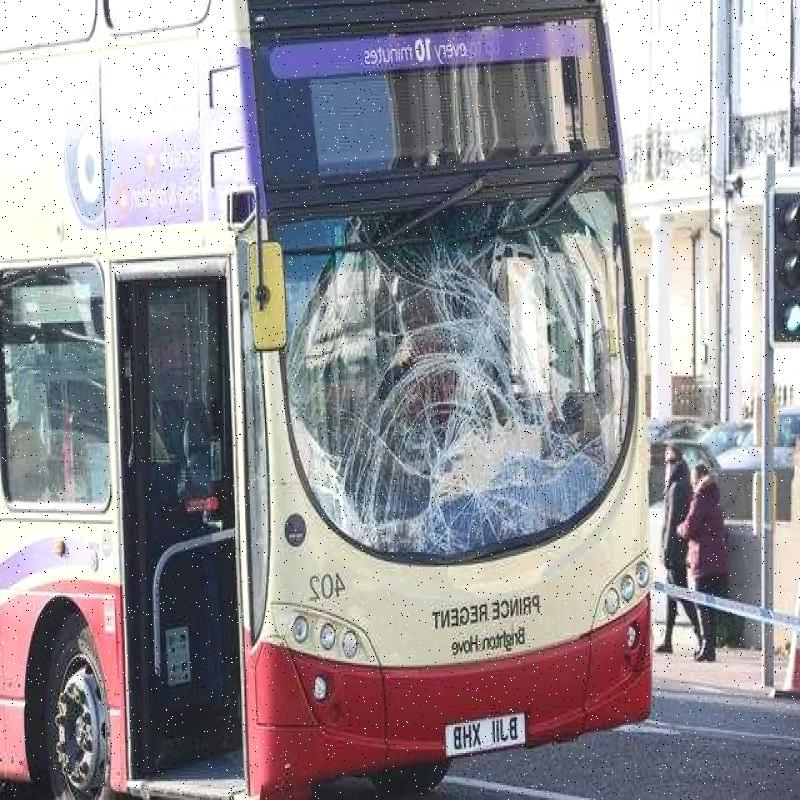bus: (0, 0, 667, 800)
